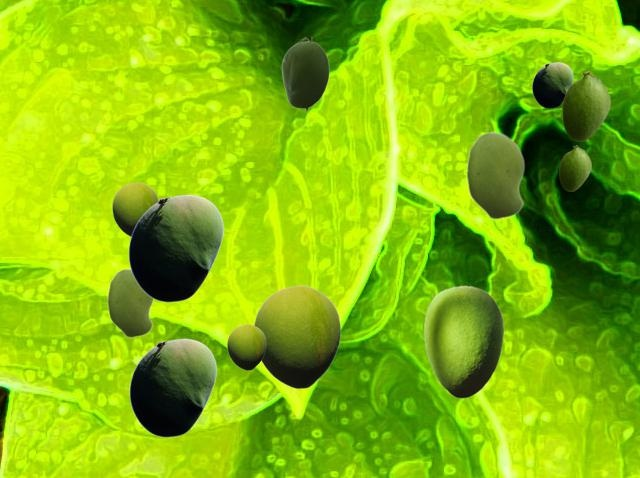green_mango: (128, 194, 223, 301), (253, 285, 340, 388), (423, 285, 503, 397), (129, 338, 216, 436), (466, 131, 524, 219), (281, 37, 328, 111), (562, 71, 609, 140), (107, 268, 153, 337), (112, 182, 158, 236), (532, 62, 572, 107), (227, 324, 265, 369), (559, 145, 590, 190)
